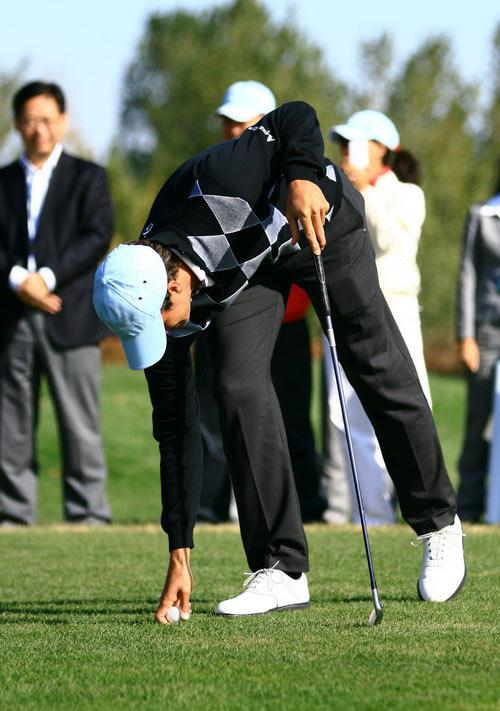bending: (113, 131, 484, 642)
up: (2, 76, 118, 535)
